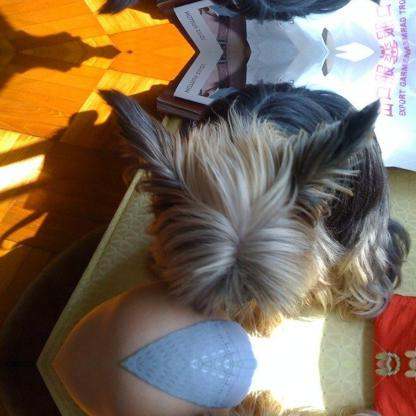Dog: (94, 78, 410, 338)
